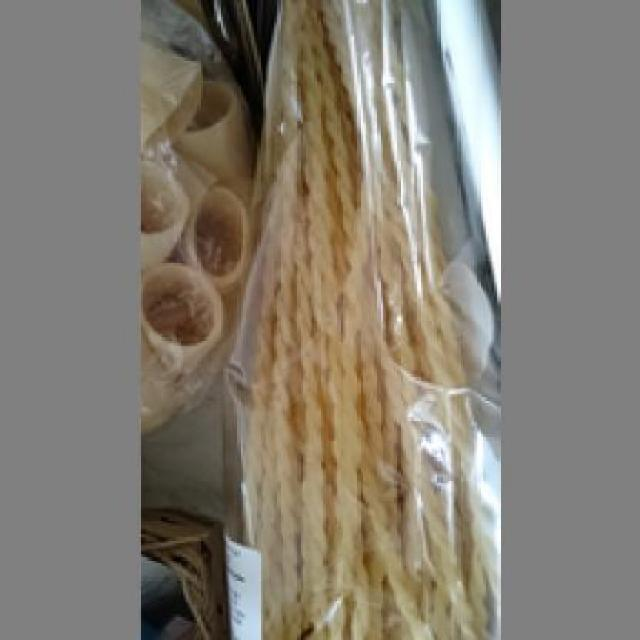Pasta: (243, 0, 486, 637)
